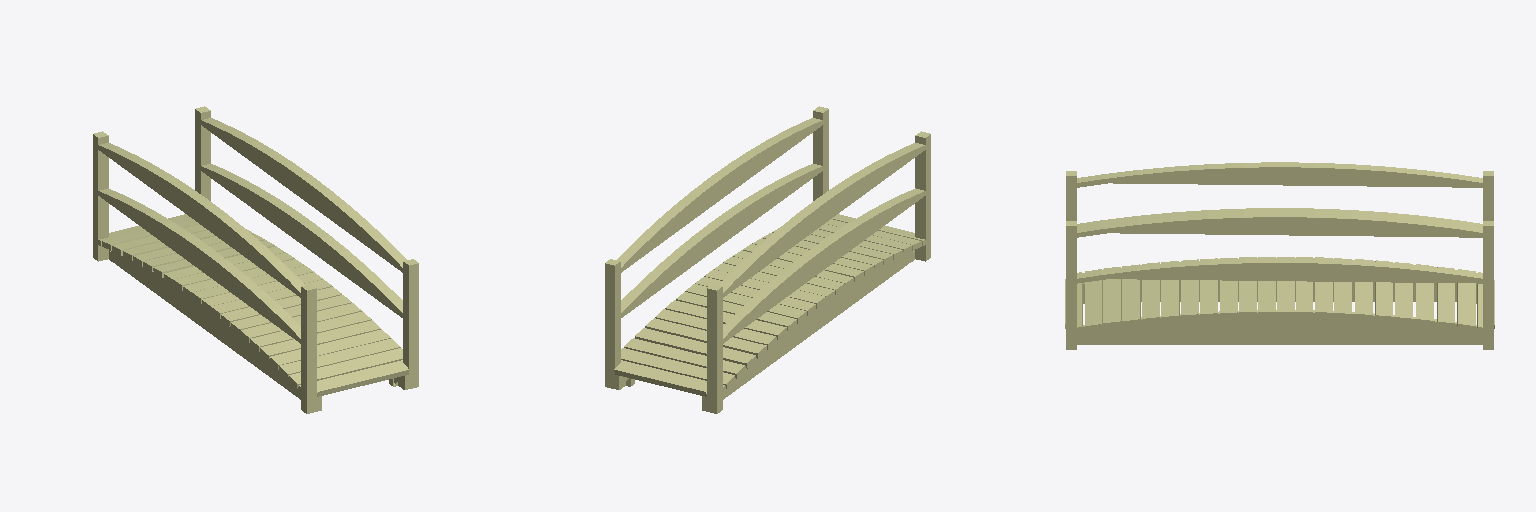
Rendered from Bridge_Wood_Creek.obj.
3 views of the same model, side by side, from view 1: azimuth 30°, elevation 25°; view 2: azimuth 150°, elevation 25°; view 3: azimuth 270°, elevation 25° (orthographic).
Parts seen in each view (by area): view 1: Mesh33 Rail3 Model, Mesh31 Rail1 Model, Mesh34 Rail4 Model, Mesh32 Rail2 Model, Mesh35 Stringer2 Model, Mesh27 Post1 Model, Mesh28 Post2 Model, Mesh30 Post4 Model, Mesh6 Plank_1_1 Model, Mesh7 Plank1 Model, Mesh29 Post3 Model, Mesh8 Plank2 Model (+12 smaller); view 2: Mesh33 Rail3 Model, Mesh31 Rail1 Model, Mesh34 Rail4 Model, Mesh32 Rail2 Model, Mesh35 Stringer2 Model, Mesh30 Post4 Model, Mesh29 Post3 Model, Mesh27 Post1 Model, Mesh36 Plank_1_2 Model, Mesh24 Plank18 Model, Mesh25 Plank19 Model, Mesh26 Plank20 Model (+12 smaller); view 3: Mesh1 Stringer1 Model, Mesh33 Rail3 Model, Mesh31 Rail1 Model, Mesh32 Rail2 Model, Mesh34 Rail4 Model, Mesh28 Post2 Model, Mesh29 Post3 Model, Mesh8 Plank2 Model, Mesh26 Plank20 Model, Mesh7 Plank1 Model, Mesh9 Plank3 Model, Mesh25 Plank19 Model (+18 smaller).
Part boxes in pixels (x1,y1,x2,y2): Mesh33 Rail3 Model: (98, 143, 304, 297); Mesh31 Rail1 Model: (201, 118, 406, 272); Mesh34 Rail4 Model: (98, 188, 300, 343); Mesh32 Rail2 Model: (201, 164, 402, 317); Mesh35 Stringer2 Model: (109, 250, 321, 411); Mesh27 Post1 Model: (301, 284, 316, 413); Mesh28 Post2 Model: (403, 259, 418, 388); Mesh30 Post4 Model: (93, 131, 108, 261); Mesh6 Plank_1_1 Model: (298, 360, 409, 396); Mesh7 Plank1 Model: (288, 348, 402, 388); Mesh29 Post3 Model: (195, 106, 210, 200); Mesh8 Plank2 Model: (279, 338, 400, 378); Mesh33 Rail3 Model: (719, 143, 925, 297); Mesh31 Rail1 Model: (617, 118, 822, 272); Mesh34 Rail4 Model: (723, 188, 925, 343); Mesh32 Rail2 Model: (621, 164, 822, 317); Mesh35 Stringer2 Model: (702, 250, 914, 411); Mesh30 Post4 Model: (707, 284, 722, 413); Mesh29 Post3 Model: (605, 259, 620, 388); Mesh27 Post1 Model: (915, 131, 930, 261); Mesh36 Plank_1_2 Model: (614, 360, 725, 396); Mesh24 Plank18 Model: (635, 328, 755, 368); Mesh25 Plank19 Model: (624, 338, 745, 378); Mesh26 Plank20 Model: (621, 348, 735, 388); Mesh1 Stringer1 Model: (1077, 310, 1482, 344); Mesh33 Rail3 Model: (1077, 162, 1482, 187); Mesh31 Rail1 Model: (1077, 212, 1482, 237); Mesh32 Rail2 Model: (1077, 258, 1482, 283); Mesh34 Rail4 Model: (1077, 208, 1482, 227); Mesh28 Post2 Model: (1066, 221, 1076, 349); Mesh29 Post3 Model: (1483, 221, 1493, 349); Mesh8 Plank2 Model: (1103, 267, 1121, 328); Mesh26 Plank20 Model: (1457, 269, 1475, 331); Mesh7 Plank1 Model: (1085, 269, 1102, 331); Mesh9 Plank3 Model: (1122, 264, 1140, 326); Mesh25 Plank19 Model: (1437, 267, 1454, 328).
Size of the model in its own units: 40 by 45.07 by 133.